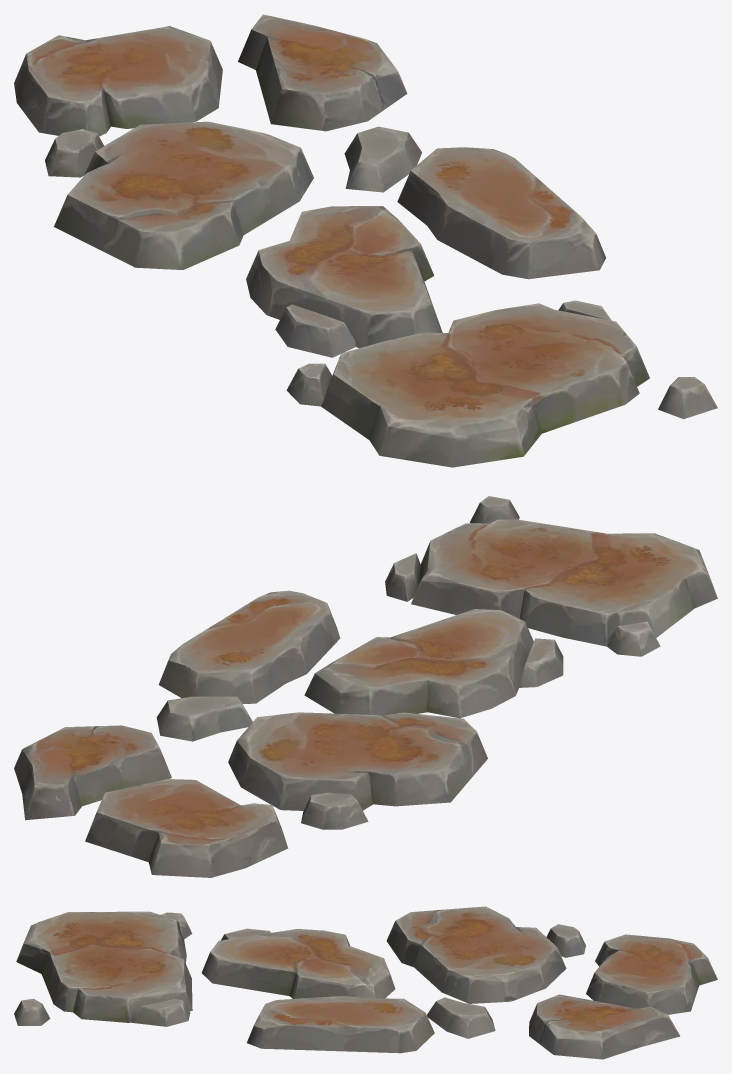
3 views of the same model, one above another, from view 1: azimuth 30°, elevation 25°; view 2: azimuth 150°, elevation 25°; view 3: azimuth 270°, elevation 25° (orthographic). The views are drawn at different scales.
Bounding box in the file's own units: 2 × 0.1436 × 4.38.
1 material, 1 textured.
